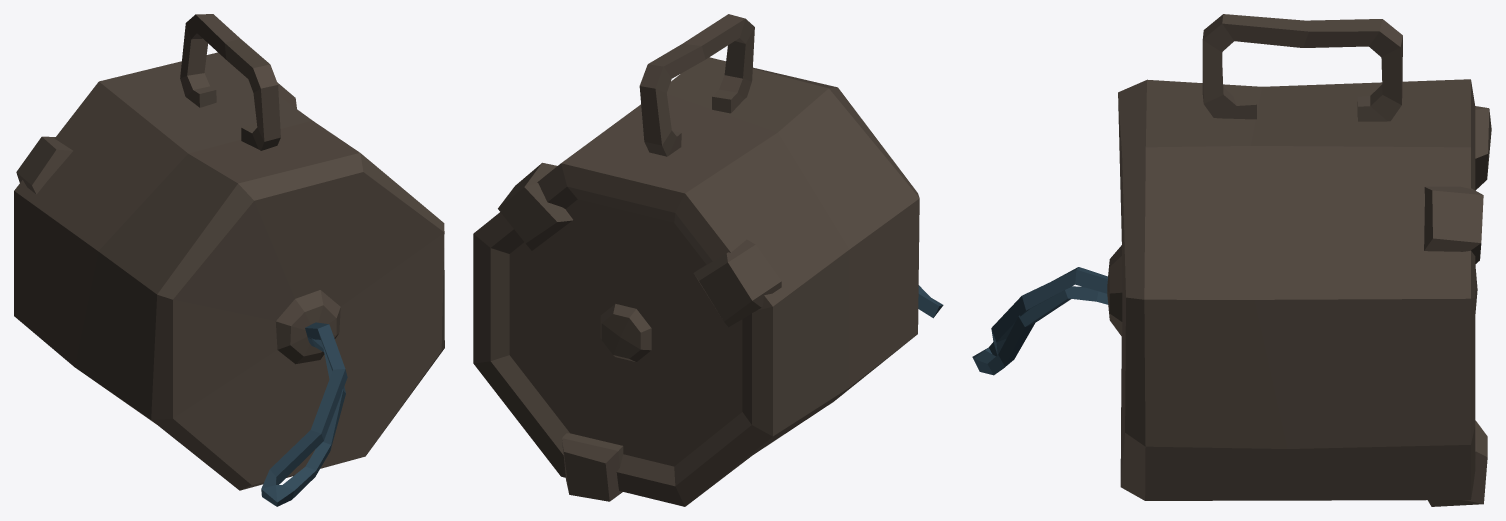
Rendered from SM_Prop_IED_06.glb.
3 renders of one model, left to right at view 1: azimuth 30°, elevation 25°; view 2: azimuth 150°, elevation 25°; view 3: azimuth 270°, elevation 25°, orthographic. The views are drawn at different scales.
Parts seen in each view (by area): view 1: SM_Prop_IED_06; view 2: SM_Prop_IED_06; view 3: SM_Prop_IED_06.
Part boxes in pixels (x1,y1,x2,y2): SM_Prop_IED_06: [14, 14, 444, 506]; SM_Prop_IED_06: [473, 14, 943, 506]; SM_Prop_IED_06: [972, 14, 1491, 506].
Bounding box in the file's own units: 0.2315 × 0.2917 × 0.2983.
1 material, 1 textured.
